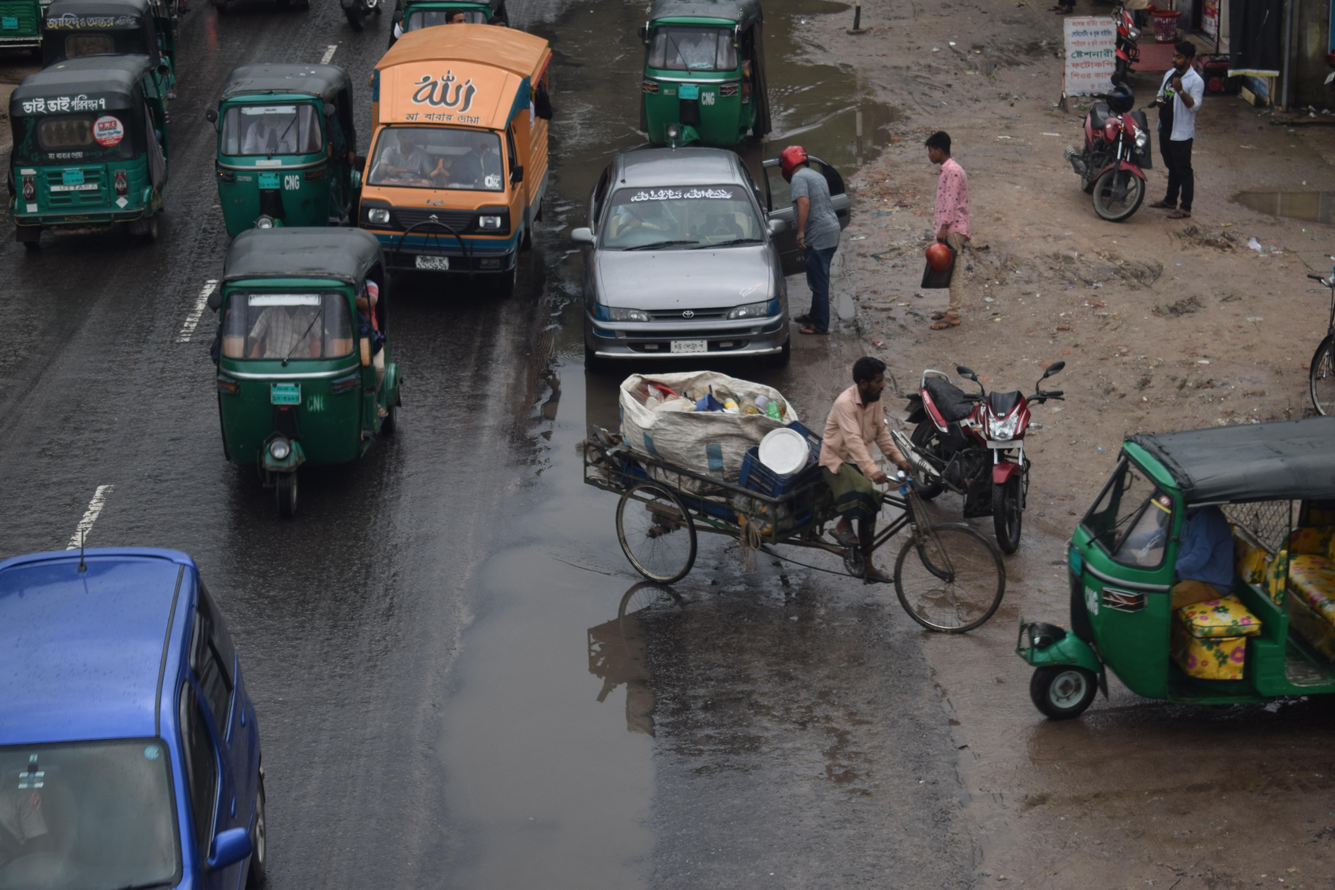Bike: (884, 332, 1083, 572), (1043, 56, 1181, 235)
Car: (526, 312, 1026, 691), (0, 517, 288, 890), (541, 117, 827, 433), (548, 128, 847, 406), (342, 12, 572, 335)
